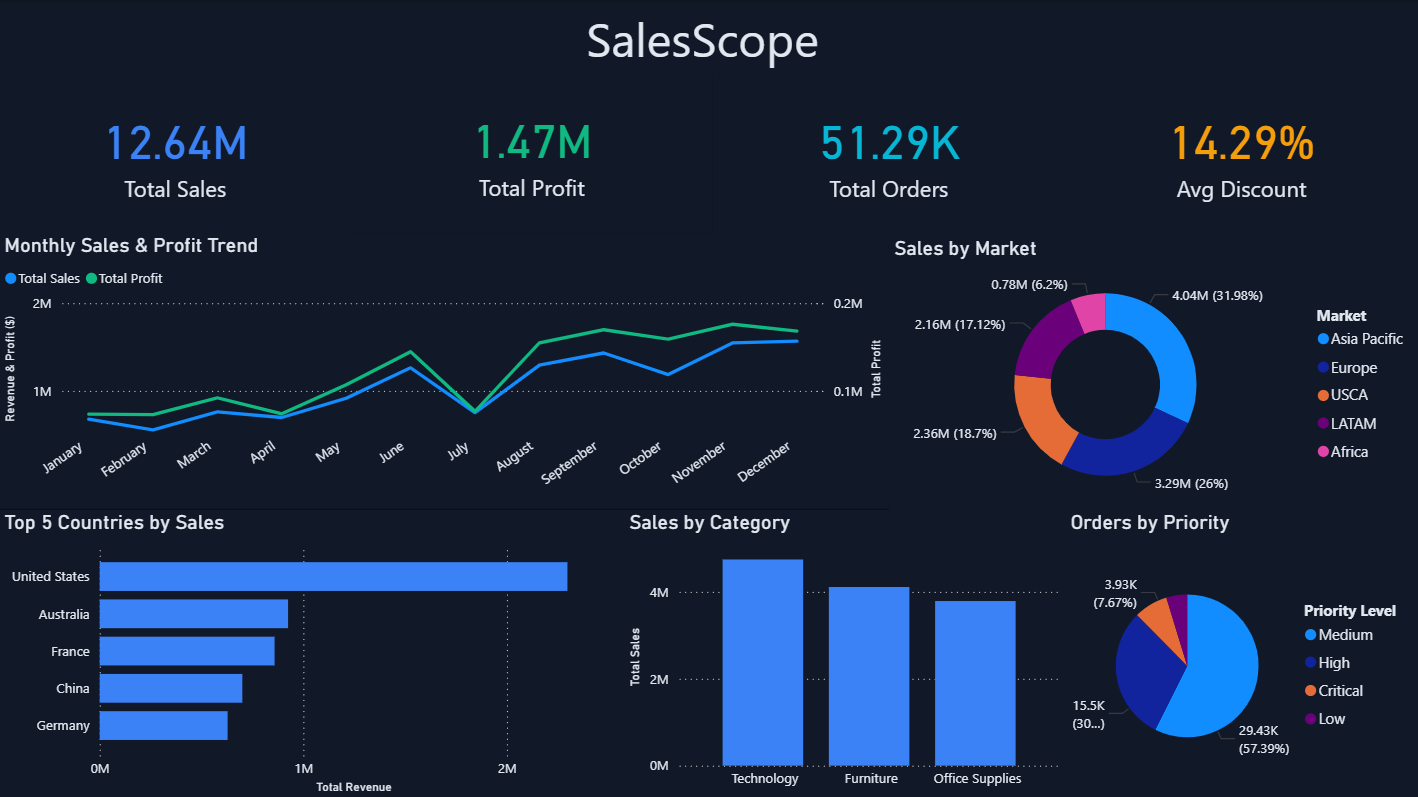

Layout of this report page (visuals, bound fields, positions):
{"tool":"powerbi","page":{"name":"Page 1","canvas":[1280,720],"ordinal":0},"visuals":[{"type":"textbox","box":[0,0,1280.4,69.9],"z":0},{"type":"card","fields":{"Values":["Sum(Orders.Sales)"]},"box":[0,61.7,318.4,150.9],"z":3},{"type":"card","fields":{"Values":["Sum(Orders.Profit)"]},"box":[317.8,62,325.7,148.8],"z":4},{"type":"card","fields":{"Values":["CountNonNull(Orders.Order ID)"]},"box":[643.6,61.7,318.4,150.9],"z":5},{"type":"card","fields":{"Values":["Avg(Orders.Discount)"]},"box":[961.9,61.7,318.4,150.9],"z":6},{"type":"barChart","title":"Top 5 Countries by Sales","fields":{"Category":["Orders.Country"],"Y":["Sum(Orders.Sales)"]},"box":[0,459.7,564,260.7],"z":8},{"type":"columnChart","title":"Sales by Category","fields":{"Category":["Orders.Category"],"Y":["Sum(Orders.Sales)"]},"box":[564,459.7,400.7,260.7],"z":9},{"type":"pieChart","title":"Orders by Priority","fields":{"Category":["Orders.Order Priority"],"Y":["CountNonNull(Orders.Order ID)"]},"box":[961.9,459.7,318.4,260.7],"z":10},{"type":"donutChart","title":"Sales by Market","fields":{"Category":["Orders.Market"],"Y":["Sum(Orders.Sales)"]},"box":[802.7,212.7,477.5,247],"z":11},{"type":"lineChart","title":"Monthly Sales & Profit Trend","fields":{"Category":["Orders.Order Date.Variation.Date Hierarchy.Month"],"Y":["Sum(Orders.Sales)"],"Y2":["Sum(Orders.Profit)"]},"box":[0,211.3,802.7,248.4],"z":12}]}

Visuals, with their boxes in screenshot pixels (x1, y1, x2, y2), scaled from the page's 1280x720 canvas onto the 1418x797 screenshot:
textbox: <region>0, 0, 1417, 77</region>
card - Sum(Orders.Sales): <region>0, 68, 353, 235</region>
card - Sum(Orders.Profit): <region>352, 69, 713, 233</region>
card - CountNonNull(Orders.Order ID): <region>713, 68, 1066, 235</region>
card - Avg(Orders.Discount): <region>1066, 68, 1417, 235</region>
"Top 5 Countries by Sales" barChart: <region>0, 509, 625, 796</region>
"Sales by Category" columnChart: <region>625, 509, 1069, 796</region>
"Orders by Priority" pieChart: <region>1066, 509, 1417, 796</region>
"Sales by Market" donutChart: <region>889, 235, 1417, 509</region>
"Monthly Sales & Profit Trend" lineChart: <region>0, 234, 889, 509</region>
